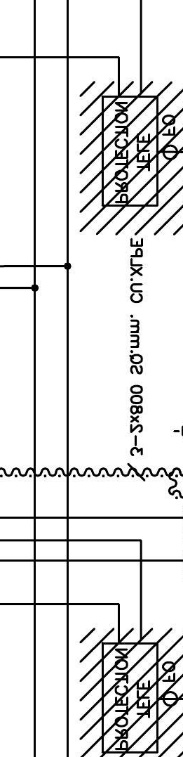tele_protection: (99, 641, 160, 756), (100, 94, 160, 209)
